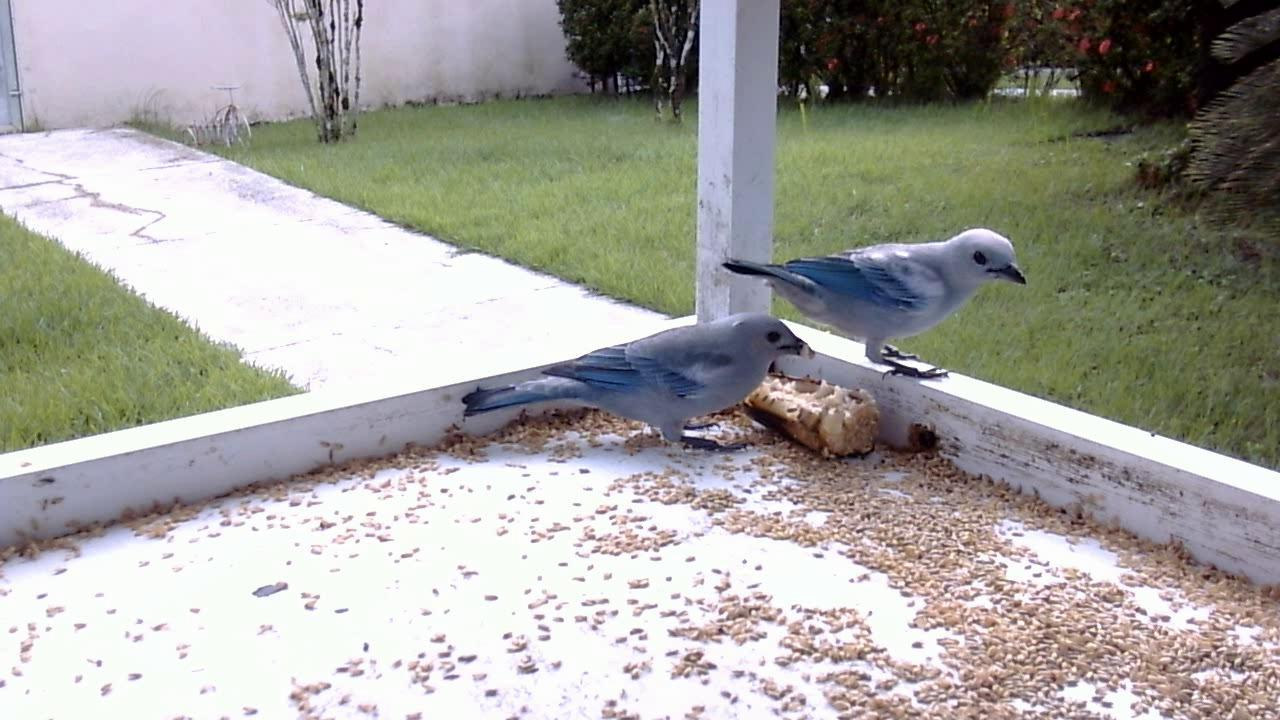sanhaco_da_amazonia: (465, 302, 821, 464), (721, 220, 1030, 385)
